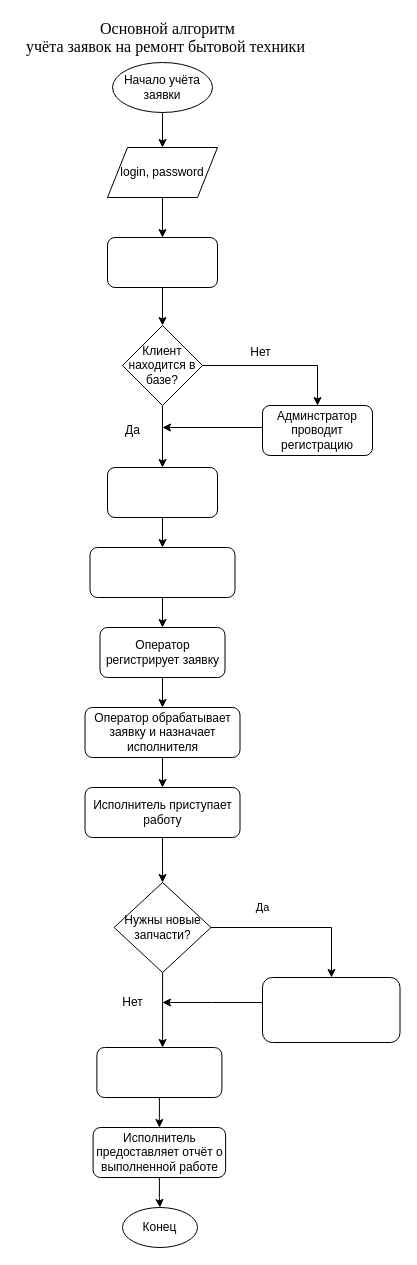
This 417x1265 diagram has some shape labels left out. Here are the shapes that lost their labels. From the top down, the centre of each, then its label:
[162,262]: Клиент хочет оставить заявку
[162,492]: Клиент авторизовывается в систему
[162,572]: Клиент оставляет новую заявку
[331,1009]: Дозаказ необходимых запчастей
[159,1072]: Исполнитель завершает работу
